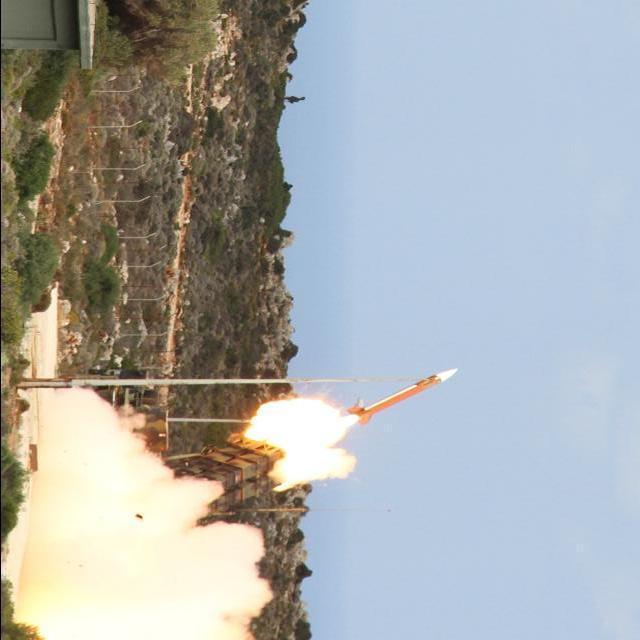missile: (354, 363, 460, 432)
